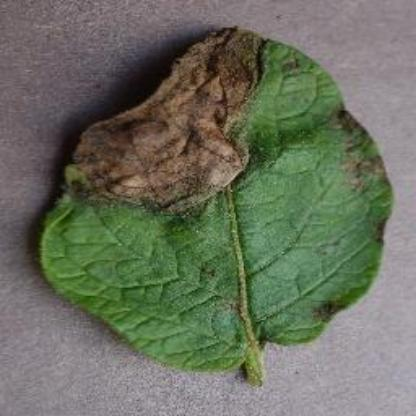Late-Blight: (34, 25, 396, 390)
